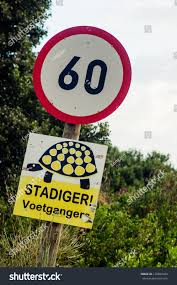Speed_limit_60km: (33, 24, 130, 121)
